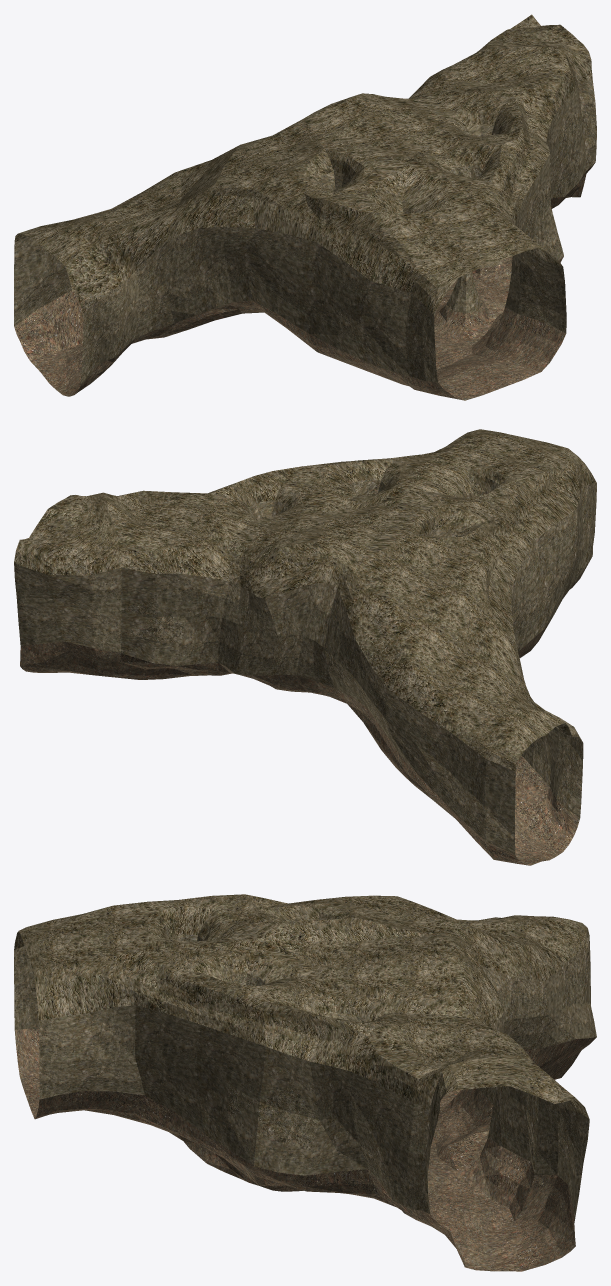
File: thm_tato_fort_tusken_r7_mesh_r7.fbx
3 renders of one model, top to bottom at view 1: azimuth 30°, elevation 25°; view 2: azimuth 150°, elevation 25°; view 3: azimuth 270°, elevation 25°, orthographic. The views are drawn at different scales.
Visible parts, largest first — view 1: mesh_node; view 2: mesh_node; view 3: mesh_node.
Boxes of the visible parts, left/top/right/bottom form: mesh_node: left=14, top=14, right=596, bottom=400; mesh_node: left=14, top=429, right=596, bottom=865; mesh_node: left=14, top=894, right=596, bottom=1271.
Bounding box in the file's own units: 32.3 × 14.45 × 27.83.
